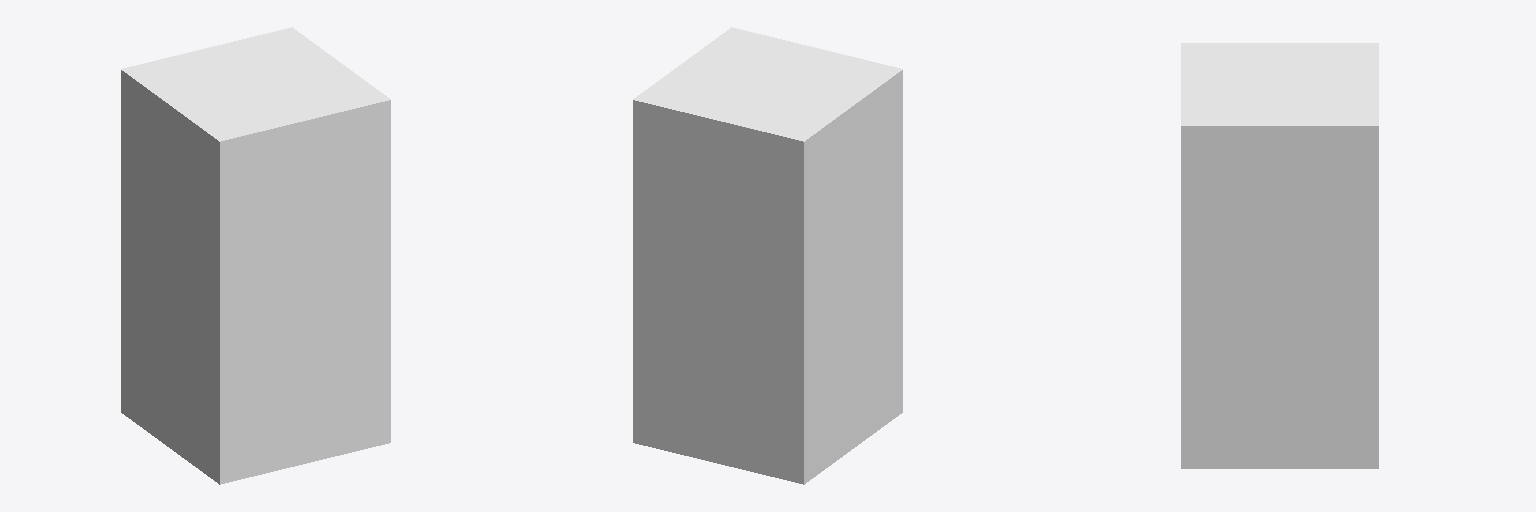
File: robotLeftLeg.obj
3 renders of one model, left to right at view 1: azimuth 30°, elevation 25°; view 2: azimuth 150°, elevation 25°; view 3: azimuth 270°, elevation 25°, orthographic.
Visible parts, largest first — view 1: object 1; view 2: object 1; view 3: object 1.
Boxes of the visible parts, x1=… form: object 1: x1=121, y1=27, x2=390, y2=484; object 1: x1=633, y1=27, x2=902, y2=484; object 1: x1=1181, y1=43, x2=1378, y2=468.
Bounding box in the file's own units: 1.1 × 2.1 × 1.1.